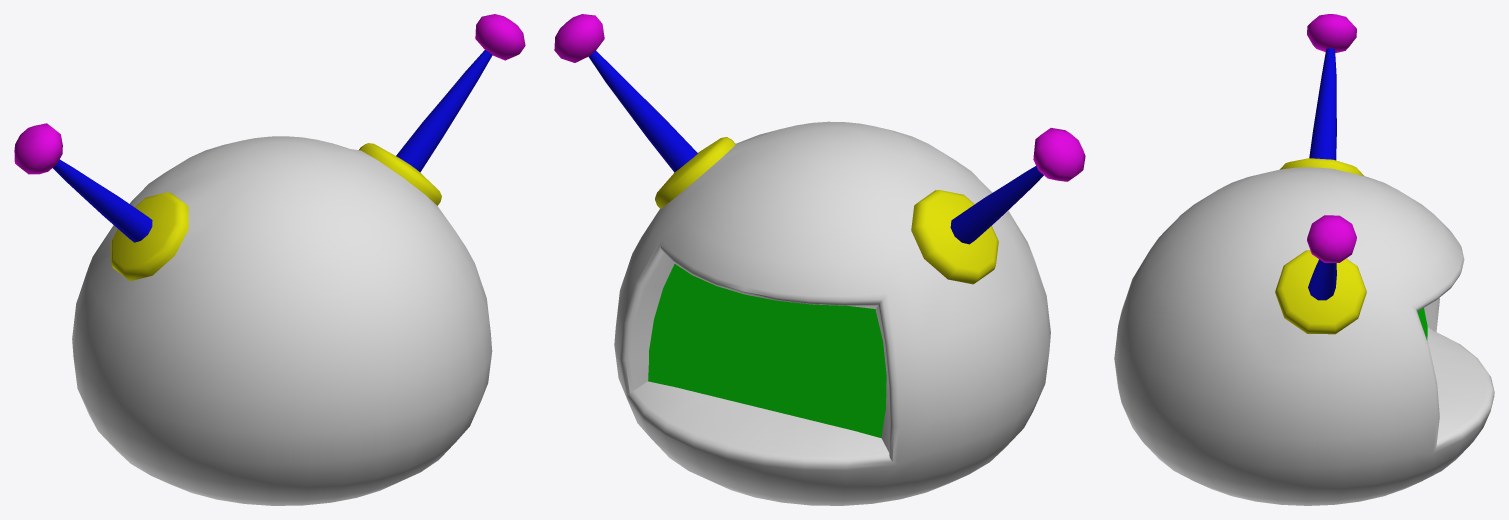
Rendered from SecurityBot.fbx.
The picture shows the model from 3 angles, left to right: view 1: azimuth 30°, elevation 25°; view 2: azimuth 150°, elevation 25°; view 3: azimuth 270°, elevation 25°; orthographic projection. The views are drawn at different scales.
Visible parts, largest first — view 1: SecurityBot; view 2: SecurityBot; view 3: SecurityBot.
Part boxes in pixels (x1=…): SecurityBot: x1=14, y1=14, x2=525, y2=505; SecurityBot: x1=554, y1=14, x2=1085, y2=505; SecurityBot: x1=1114, y1=14, x2=1494, y2=505.
Bounding box in the file's own units: 174 × 126 × 125.
